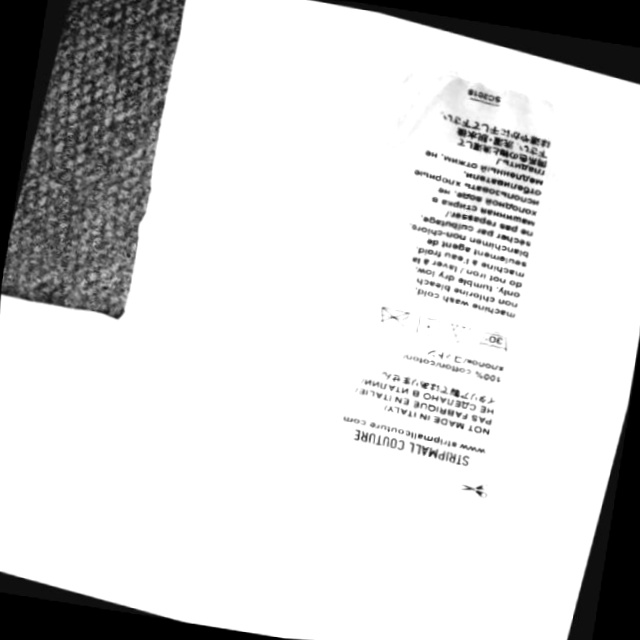30C: (476, 327, 515, 353)
DN_iron: (372, 303, 411, 333)
non_chlorine_bleach: (446, 320, 474, 345)
tumble_dry_low: (413, 313, 448, 339)
